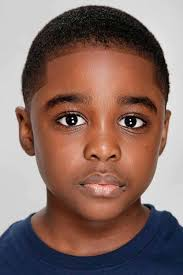person: (15, 5, 172, 224)
